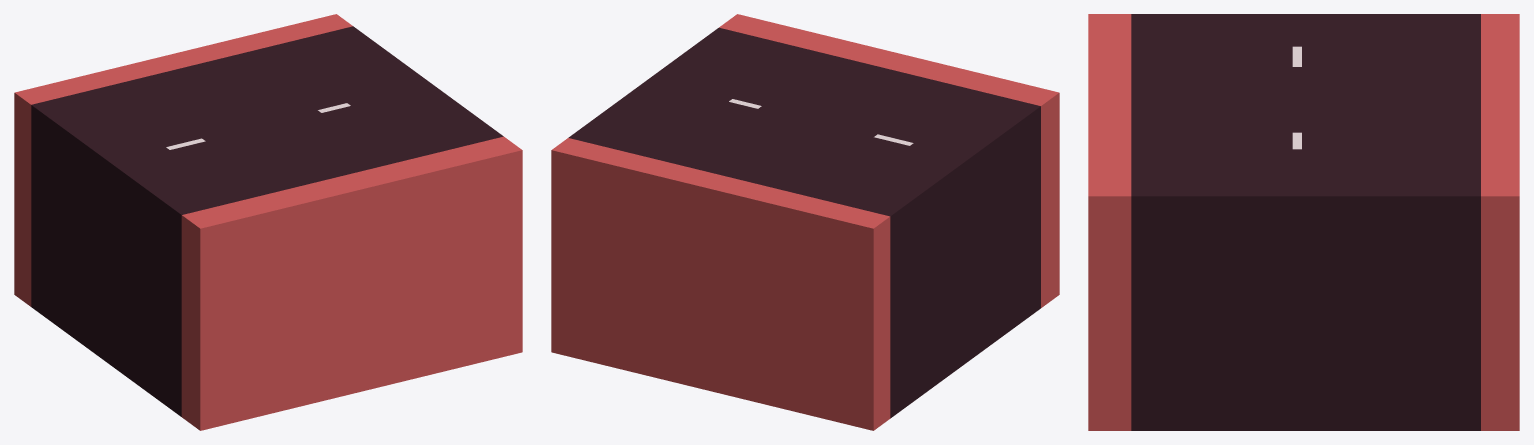
File: road.glb
The picture shows the model from 3 angles, left to right: view 1: azimuth 30°, elevation 25°; view 2: azimuth 150°, elevation 25°; view 3: azimuth 270°, elevation 25°; orthographic projection. The views are drawn at different scales.
Visible parts, largest first — view 1: Cube.020; view 2: Cube.020; view 3: Cube.020.
Part boxes in pixels (x1,y1,x2,y2): Cube.020: (14, 14, 522, 430); Cube.020: (551, 14, 1059, 430); Cube.020: (1088, 14, 1519, 430).
Size of the model in its own units: 59.9 by 35.94 by 59.9.
1 material, 1 textured.
